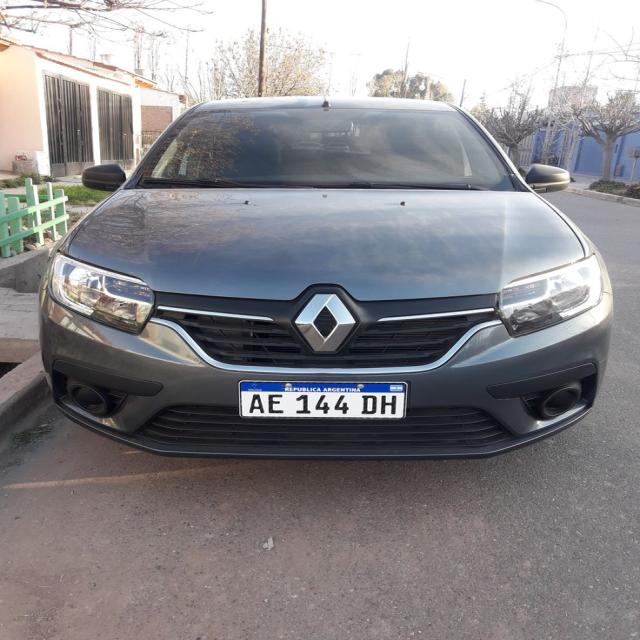Placas: (235, 379, 410, 422)
